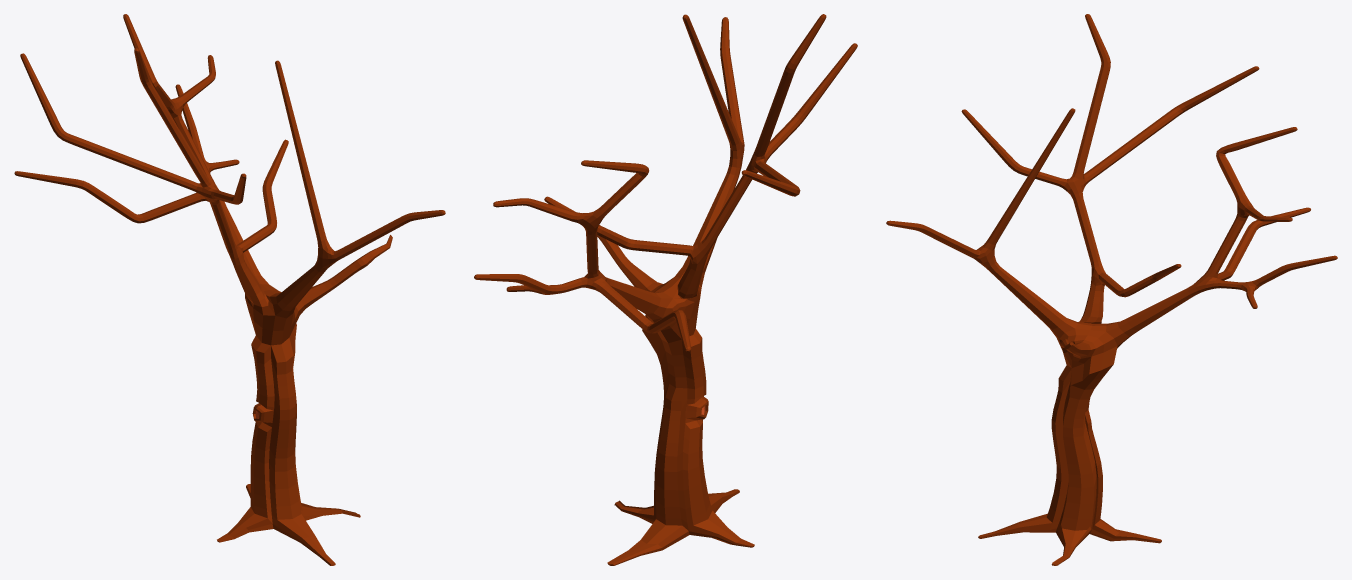
The model's file is NakedTree.fbx.
3 views of the same model, side by side, from view 1: azimuth 30°, elevation 25°; view 2: azimuth 150°, elevation 25°; view 3: azimuth 270°, elevation 25° (orthographic). The views are drawn at different scales.
Visible parts, largest first — view 1: Cube.003; view 2: Cube.003; view 3: Cube.003.
Part boxes in pixels (bbox=[...]): Cube.003: bbox=[14, 14, 445, 565]; Cube.003: bbox=[474, 14, 857, 565]; Cube.003: bbox=[886, 14, 1337, 565].
Bounding box in the file's own units: 13380 × 23476 × 20739.
